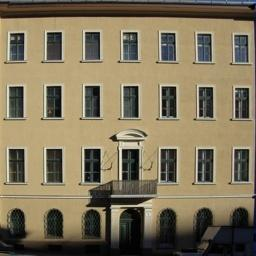building: (1, 0, 256, 256)
